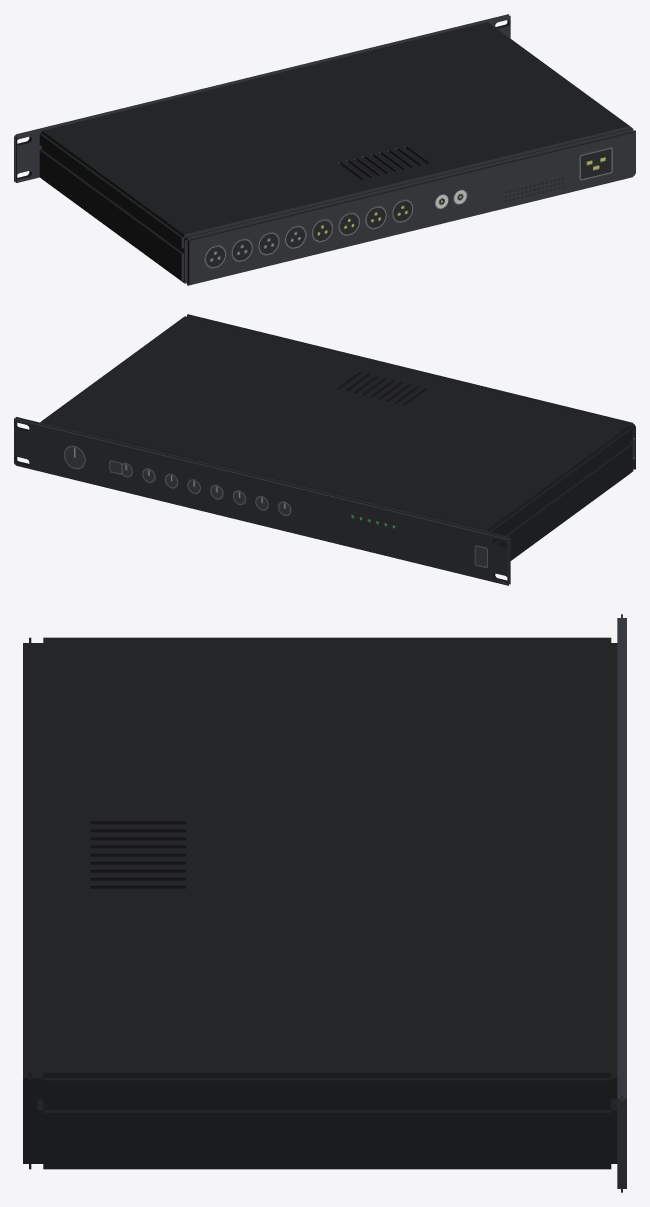
File: ams-neve-1073dpd.glb
3 views of the same model, one above another, from view 1: azimuth 30°, elevation 25°; view 2: azimuth 150°, elevation 25°; view 3: azimuth 270°, elevation 25° (orthographic). The views are drawn at different scales.
Visible parts, largest first — view 1: ams-neve-1073dpd-body; view 2: ams-neve-1073dpd-body; view 3: ams-neve-1073dpd-body.
Boxes of the visible parts, bbox=[...] form: ams-neve-1073dpd-body: bbox=[14, 14, 635, 285]; ams-neve-1073dpd-body: bbox=[14, 314, 635, 585]; ams-neve-1073dpd-body: bbox=[23, 614, 626, 1192].
Bounding box in the file's own units: 0.482 × 0.045 × 0.254.
Materials: 1 (1 with a texture image).
